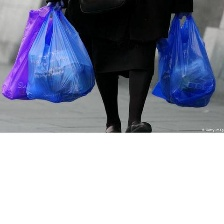plastic_bag: (149, 5, 218, 110), (28, 3, 98, 103), (0, 1, 61, 100)
